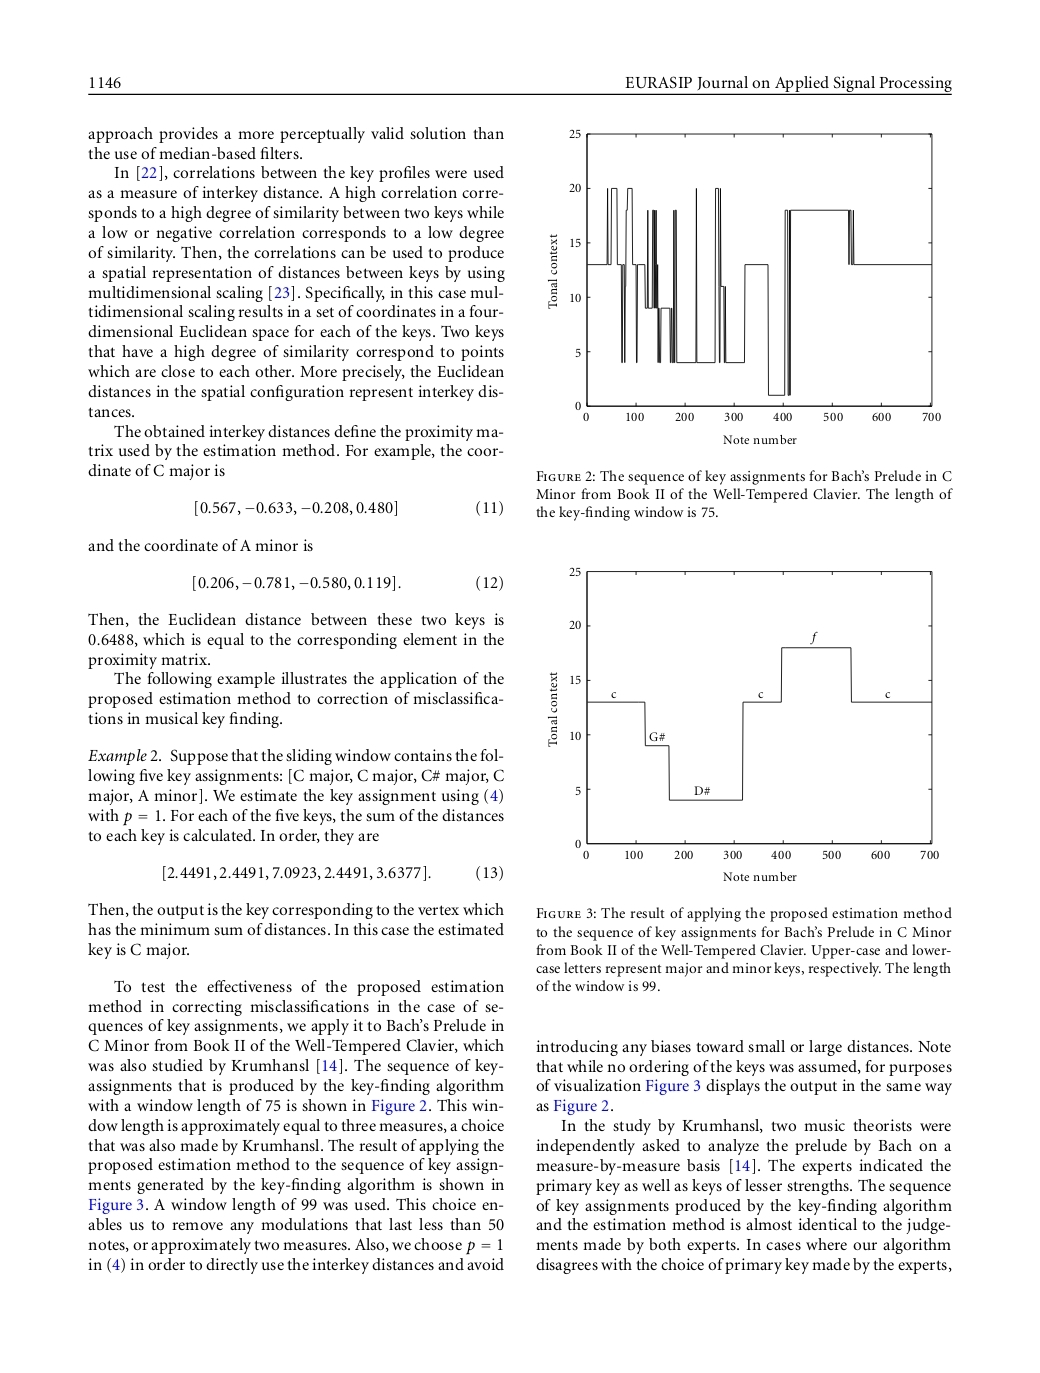figure: (547, 129, 939, 421), (547, 567, 938, 859)
formula: (163, 865, 503, 881), (193, 575, 503, 591), (194, 500, 503, 516)
